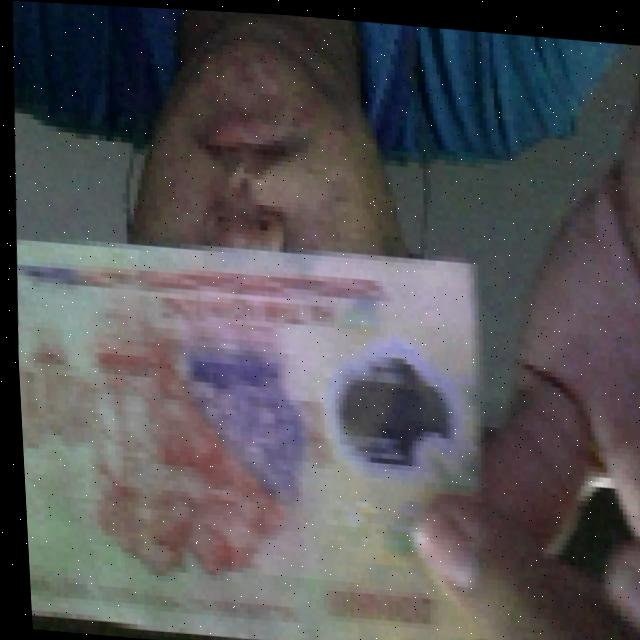200 000 VND: (9, 218, 505, 640)
